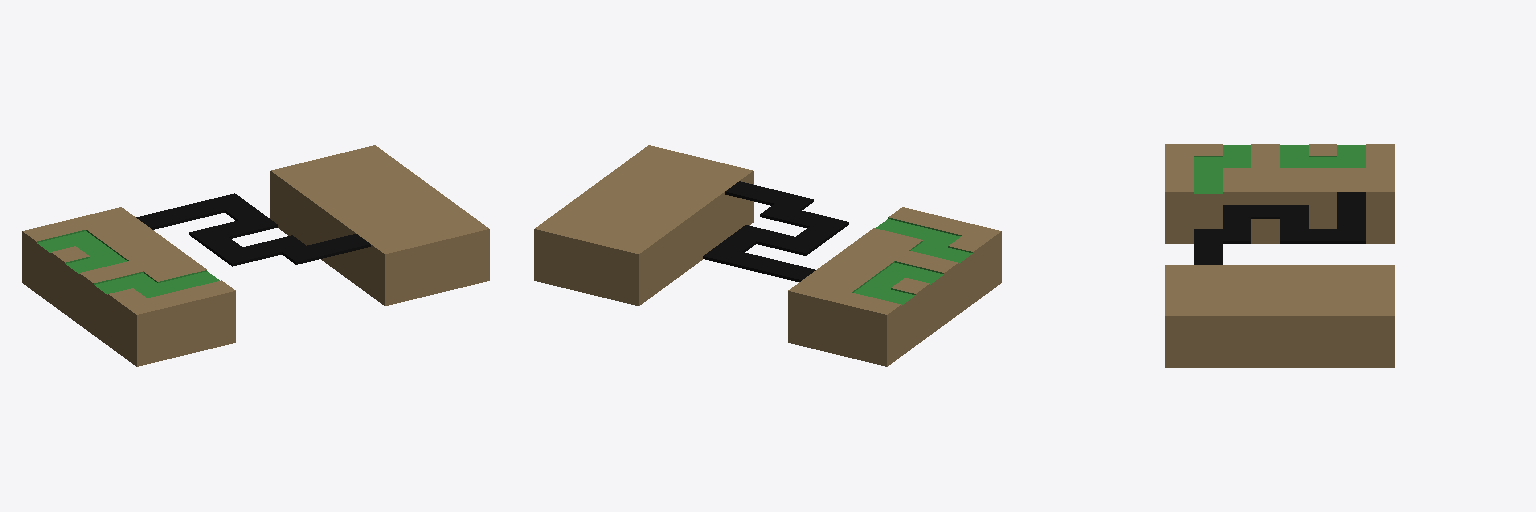
The model's file is Map2_black.obj.
3 renders of one model, left to right at view 1: azimuth 30°, elevation 25°; view 2: azimuth 150°, elevation 25°; view 3: azimuth 270°, elevation 25°, orthographic.
Visible parts, largest first — view 1: Map1&Map2_v11_Body19_0; view 2: Map1&Map2_v11_Body19_0; view 3: Map1&Map2_v11_Body19_0.
Part boxes in pixels (bbox=[...]): Map1&Map2_v11_Body19_0: bbox=[22, 145, 489, 366]; Map1&Map2_v11_Body19_0: bbox=[534, 145, 1001, 366]; Map1&Map2_v11_Body19_0: bbox=[1165, 144, 1394, 367].
Bounding box in the file's own units: 128 × 18 × 72.